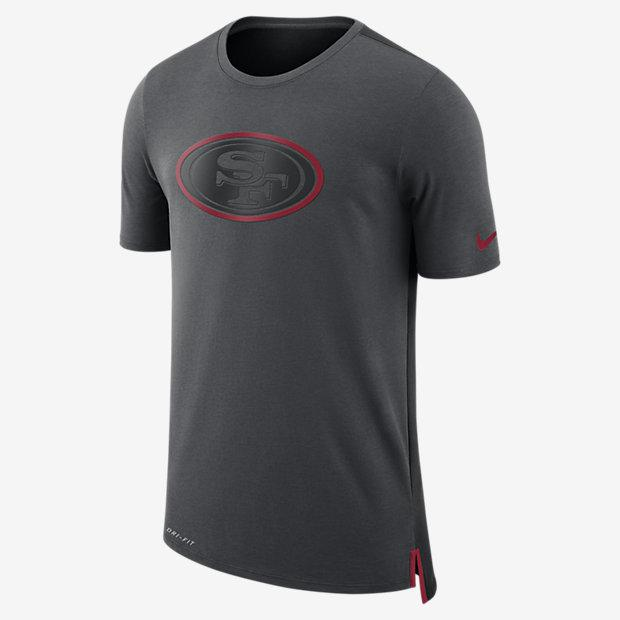teeshirt: (98, 9, 533, 607)
